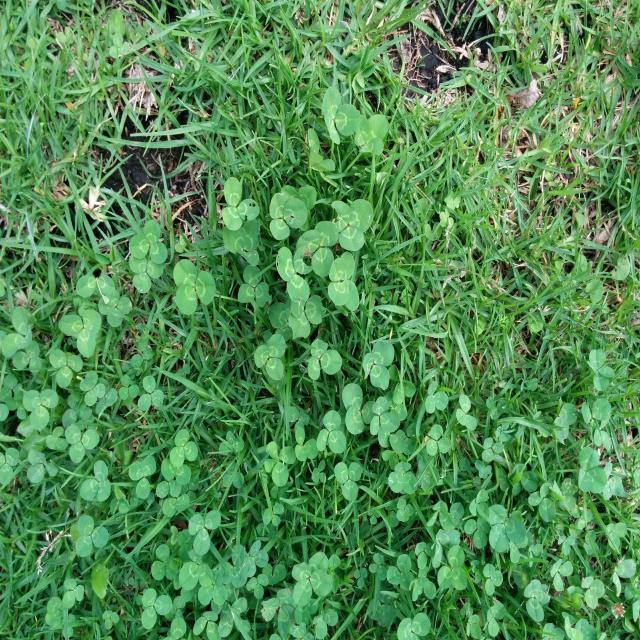Four Leaf Clover: (291, 552, 332, 607)
